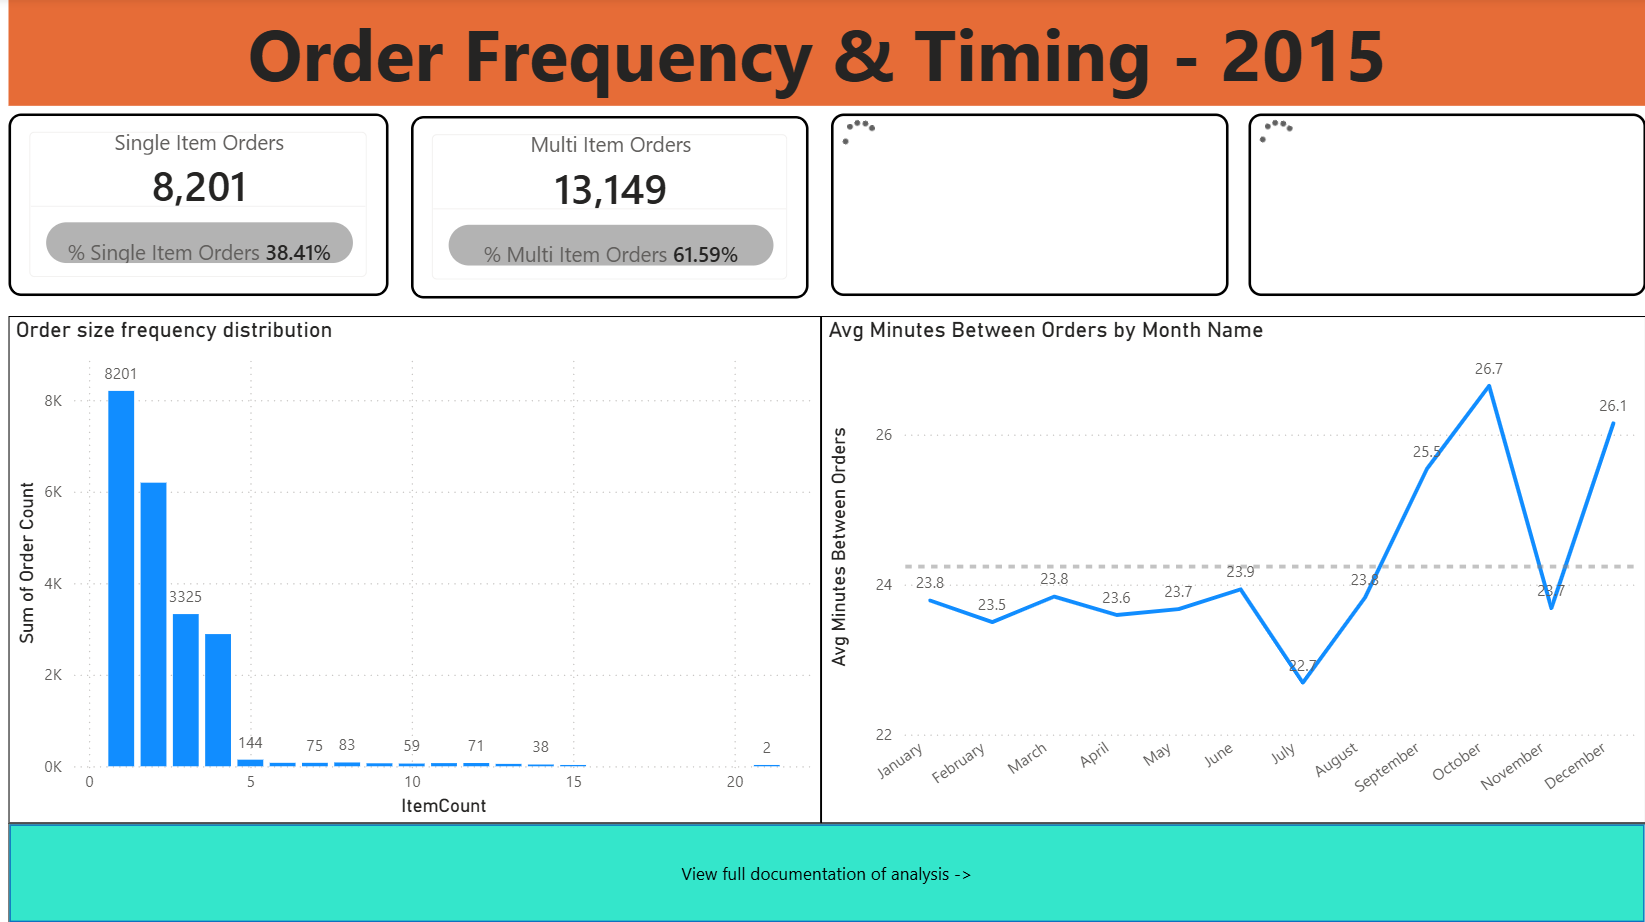

The dashboard page shown, as its layout file describes it:
{"tool":"powerbi","page":{"name":"Duplicate of Ingredients & Correlations","canvas":[1280,720],"ordinal":4},"visuals":[{"type":"textbox","box":[9.7,0,1270.3,85.3],"z":0},{"type":"cardVisual","fields":{"Data":["Measure.Single Item Orders"]},"box":[10.3,90.8,294.8,141.6],"z":1000},{"type":"actionButton","box":[0,0,100,40],"z":2000},{"type":"cardVisual","fields":{"Data":["Measure.Multi Item Orders"]},"box":[321.9,92.7,308.4,141.6],"z":3000},{"type":"cardVisual","fields":{"Data":["Measure.Avg Minutes Between Orders"]},"box":[647.1,92.1,308.4,141.6],"z":4000},{"type":"cardVisual","fields":{"Data":["Measure.Max Gap Between Orders (mins)"]},"box":[972.3,91.4,308.4,141.6],"z":5000},{"type":"columnChart","title":"Order size frequency distribution","fields":{"Y":["Sum(Order Size Distribution.Order Count)"],"Category":["Order Size Distribution.ItemCount"]},"box":[9.7,248.2,630.3,393.7],"z":6000},{"type":"lineChart","fields":{"Category":["dim_date.Month Name"],"Y":["Measure.Avg Minutes Between Orders"]},"box":[640,248.2,640,393.7],"z":7000},{"type":"shape","title":"Documentation","box":[9.7,641.9,1270.3,77.6],"z":8000}]}

Visuals, with their boxes in screenshot pixels (x1, y1, x2, y2), scaled from the page's 1280x720 canvas onto the 1645x922 screenshot:
textbox: [left=12, top=0, right=1644, bottom=109]
cardVisual - Measure.Single Item Orders: [left=13, top=116, right=392, bottom=298]
actionButton: [left=0, top=0, right=129, bottom=51]
cardVisual - Measure.Multi Item Orders: [left=414, top=119, right=810, bottom=300]
cardVisual - Measure.Avg Minutes Between Orders: [left=832, top=118, right=1228, bottom=299]
cardVisual - Measure.Max Gap Between Orders (mins): [left=1250, top=117, right=1644, bottom=298]
"Order size frequency distribution" columnChart: [left=12, top=318, right=822, bottom=822]
lineChart - dim_date.Month Name x Measure.Avg Minutes Between Orders: [left=822, top=318, right=1644, bottom=822]
"Documentation" shape: [left=12, top=822, right=1644, bottom=921]
